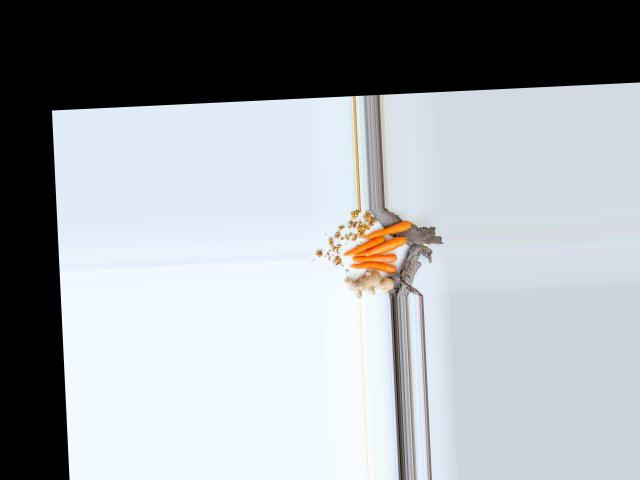carrot: (351, 258, 399, 280)
